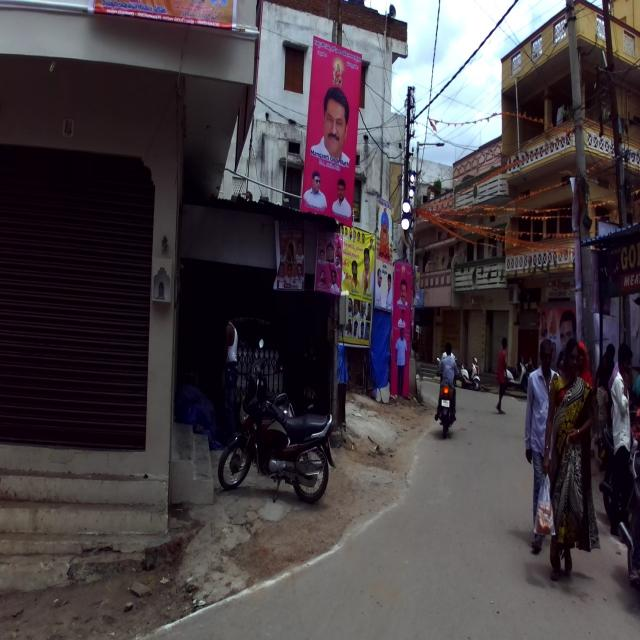motorcycle_Hero: (218, 365, 336, 503)
scooter: (245, 338, 296, 430), (502, 352, 526, 388), (459, 356, 481, 390)
